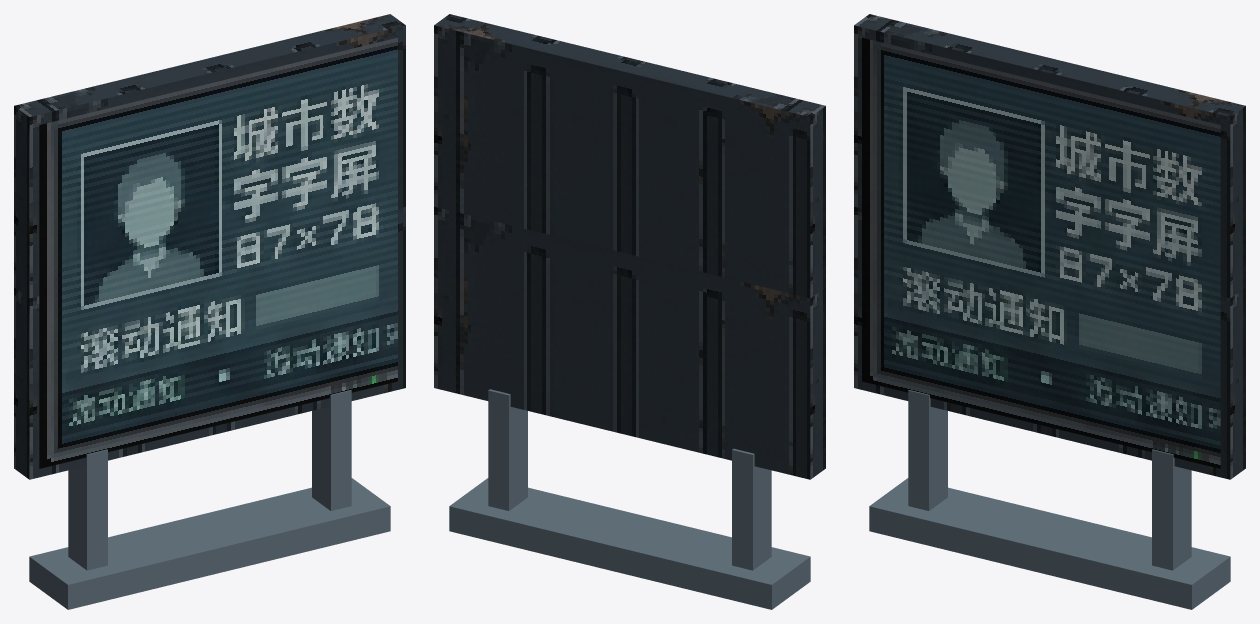
The model's file is wall_advert.glb.
The picture shows the model from 3 angles, left to right: view 1: azimuth 30°, elevation 25°; view 2: azimuth 150°, elevation 25°; view 3: azimuth 330°, elevation 25°; orthographic projection.
Visible parts, largest first — view 1: wall_advert; view 2: wall_advert; view 3: wall_advert.
Part boxes in pixels (x1,y1,x2,y2): wall_advert: [14, 14, 405, 609]; wall_advert: [434, 14, 825, 609]; wall_advert: [854, 14, 1245, 609].
Size of the model in its own units: 2.52 by 3.14 by 0.45.
3 materials, 2 textured.
